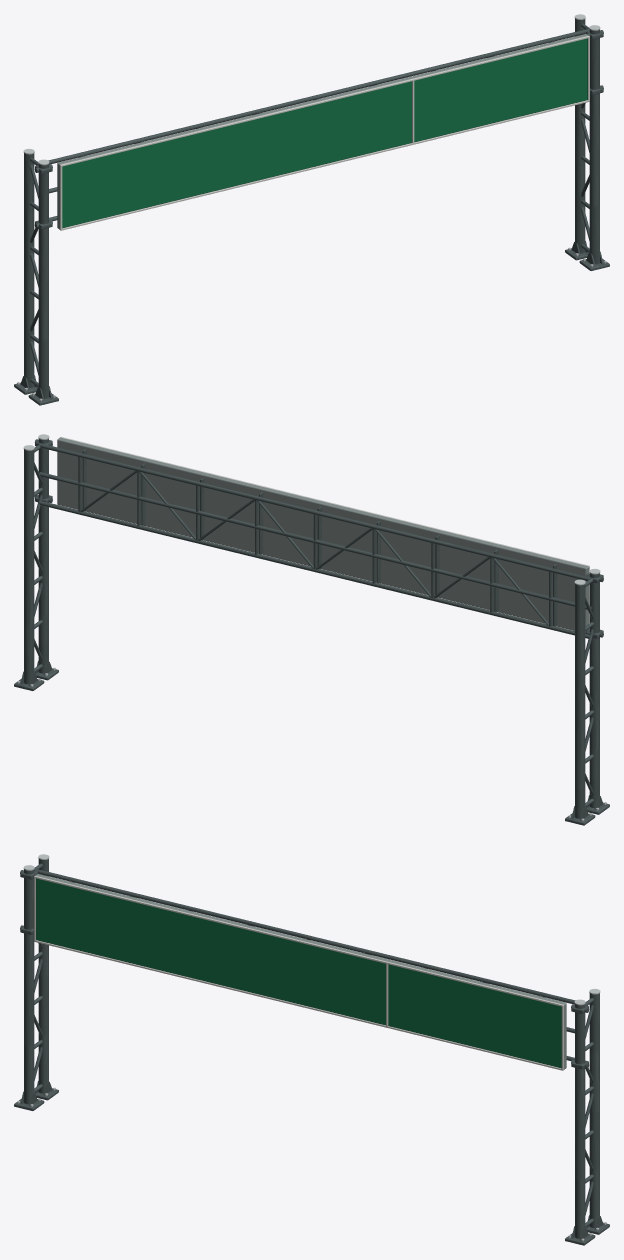
The model's file is road-gantry-green.glb.
3 renders of one model, top to bottom at view 1: azimuth 30°, elevation 25°; view 2: azimuth 150°, elevation 25°; view 3: azimuth 330°, elevation 25°, orthographic.
Parts seen in each view (by area): view 1: SignFace, SupportStructure, AdFace, BoardFrame, BoardBacking, PanelSeals; view 2: BoardBacking, SupportStructure, BoardFrame; view 3: SignFace, SupportStructure, AdFace, BoardFrame, BoardBacking, PanelSeals.
Part boxes in pixels (bbox=[...]): SignFace: bbox=[62, 81, 411, 227]; SupportStructure: bbox=[14, 19, 609, 405]; AdFace: bbox=[414, 38, 587, 141]; BoardFrame: bbox=[60, 36, 589, 230]; BoardBacking: bbox=[57, 34, 588, 229]; PanelSeals: bbox=[62, 38, 587, 228]; BoardBacking: bbox=[57, 437, 588, 633]; SupportStructure: bbox=[14, 439, 609, 825]; BoardFrame: bbox=[60, 437, 589, 629]; SignFace: bbox=[36, 878, 385, 1024]; SupportStructure: bbox=[14, 859, 609, 1245]; AdFace: bbox=[388, 964, 561, 1067]; BoardFrame: bbox=[34, 876, 563, 1070]; BoardBacking: bbox=[35, 874, 566, 1069]; PanelSeals: bbox=[36, 878, 561, 1068].
Size of the model in its own units: 29.1 by 11.58 by 2.36.
7 materials, 1 textured.
